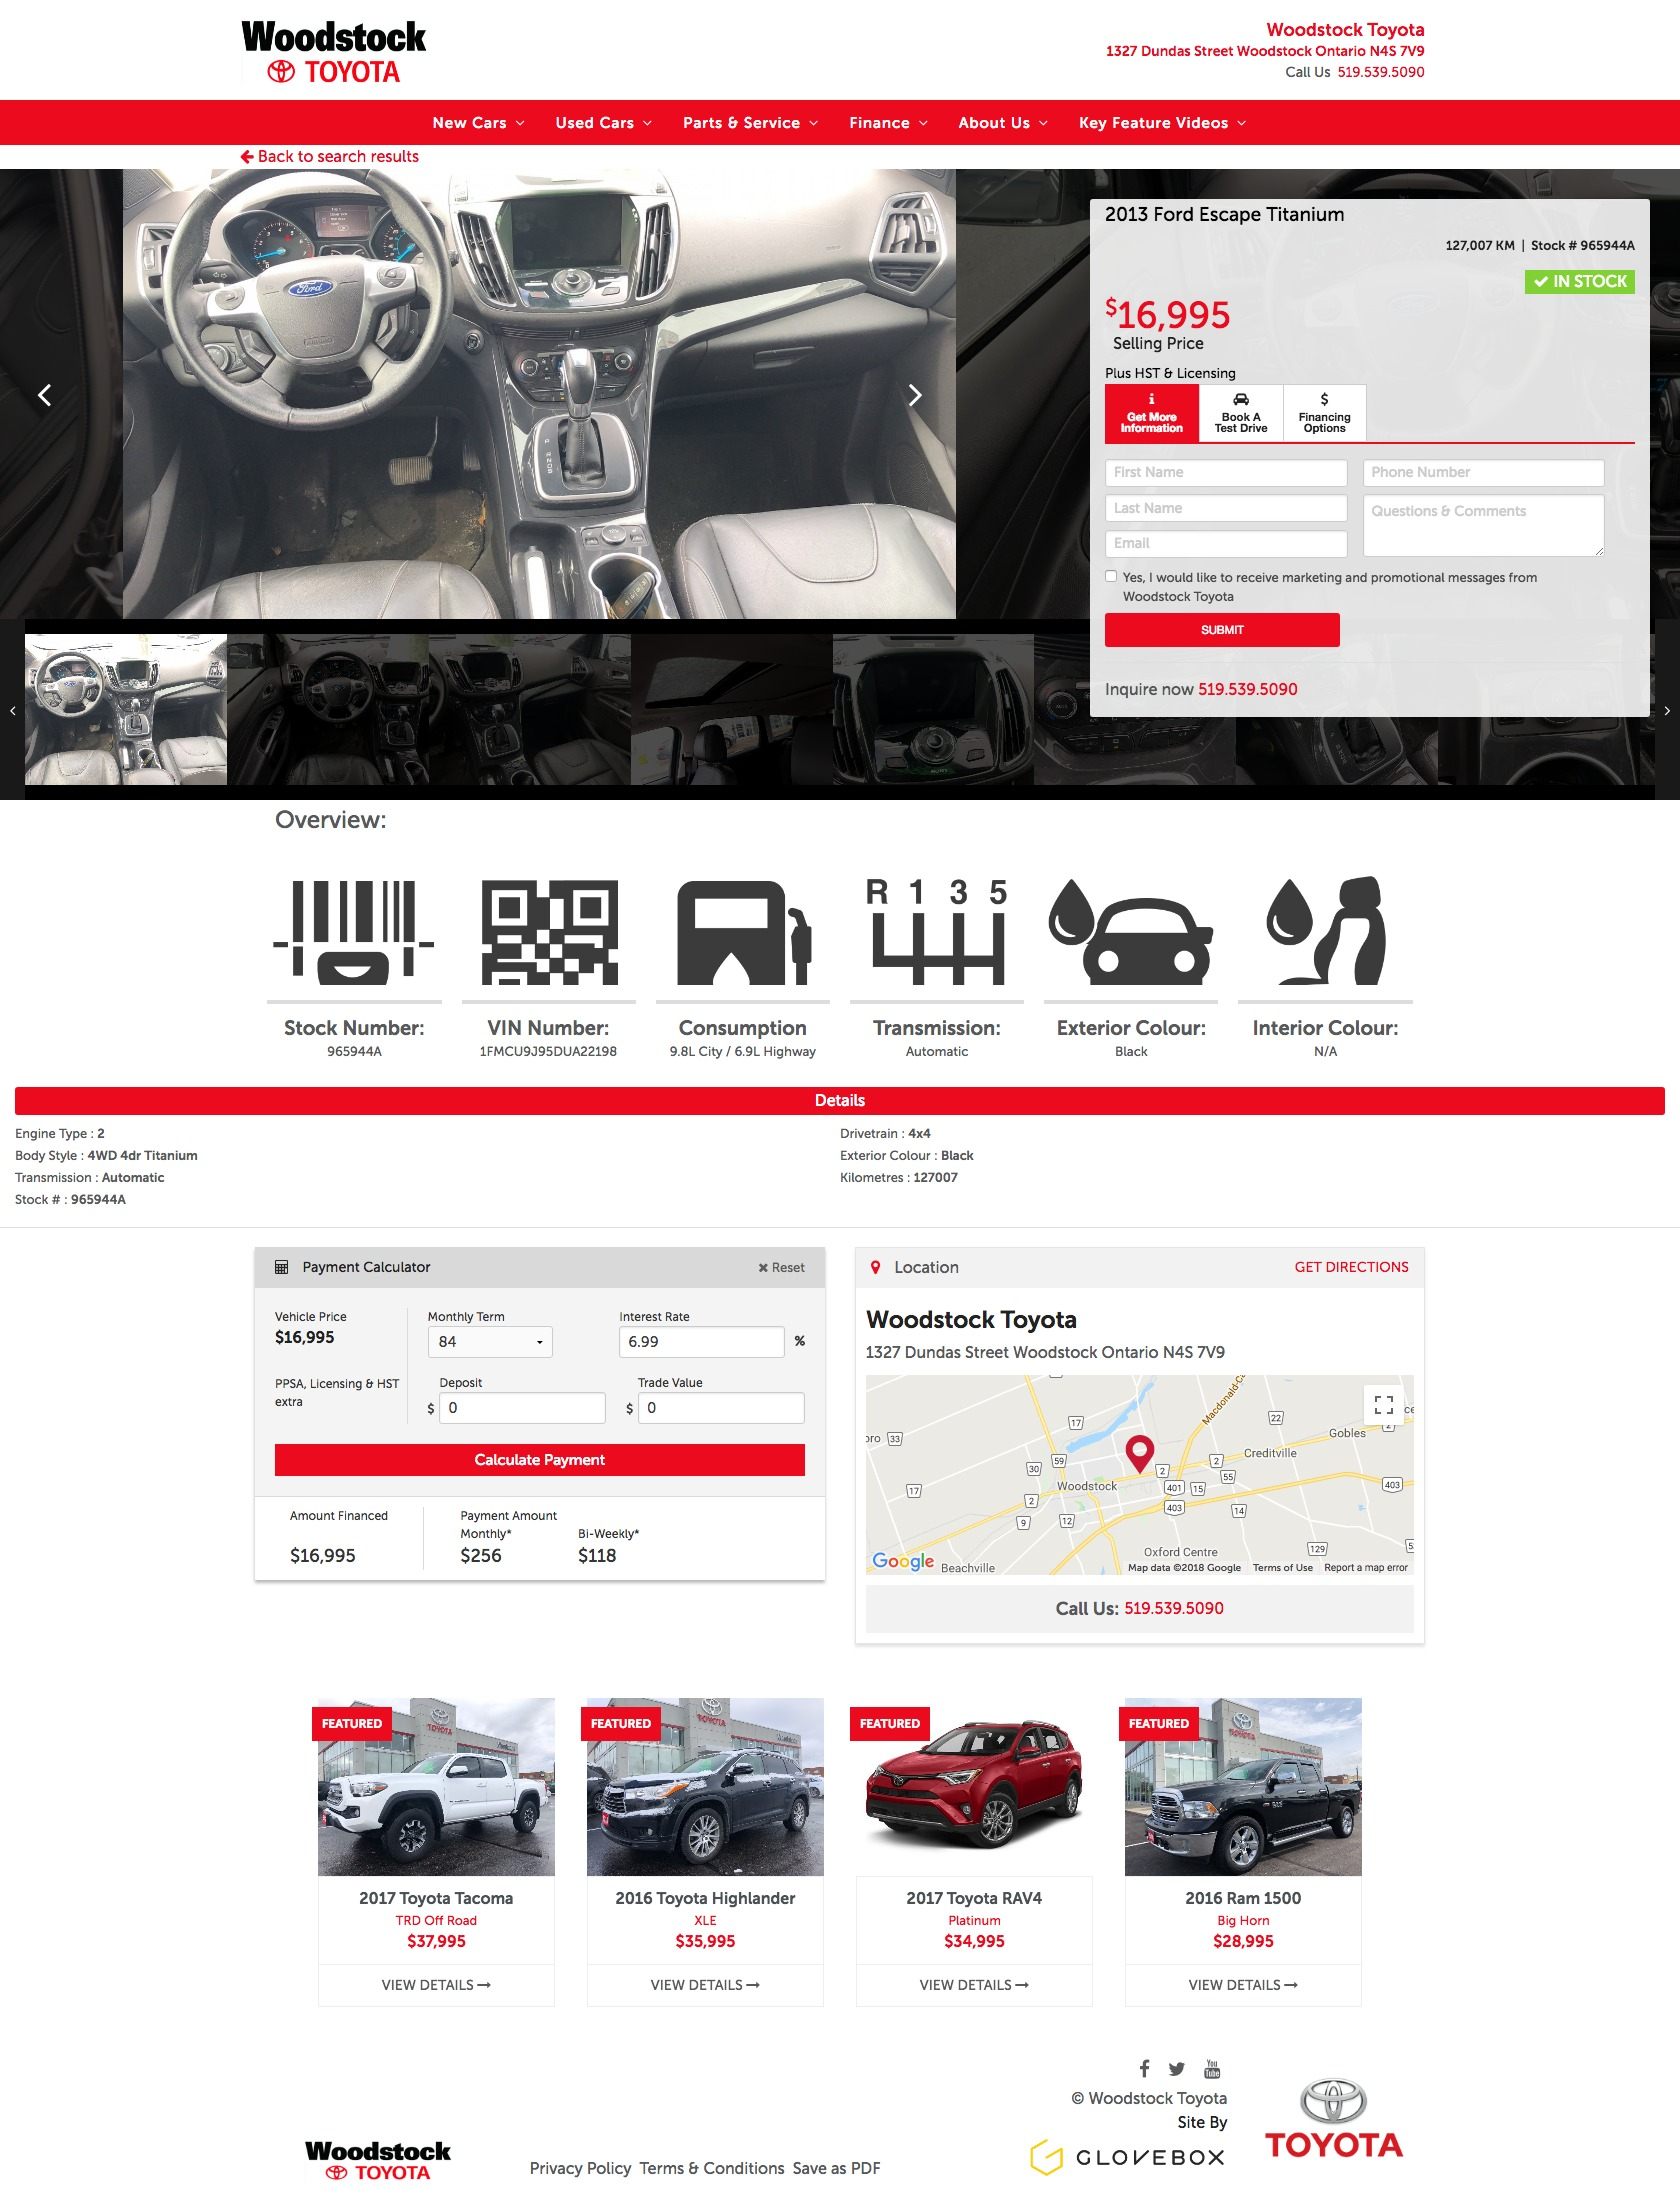car: (909, 385, 923, 408)
